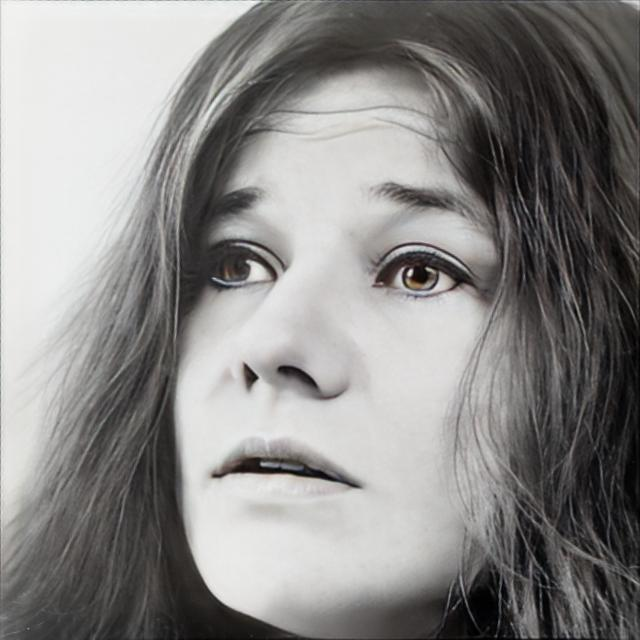sad: (169, 58, 529, 640)
